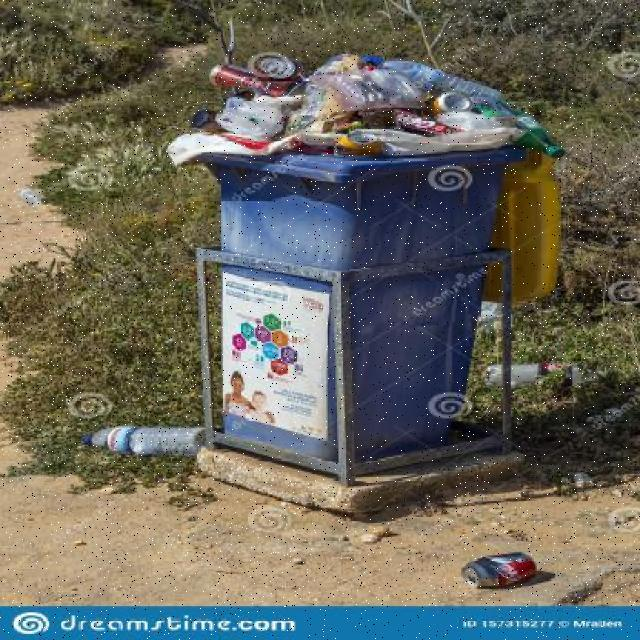garbage container: (168, 134, 510, 483)
